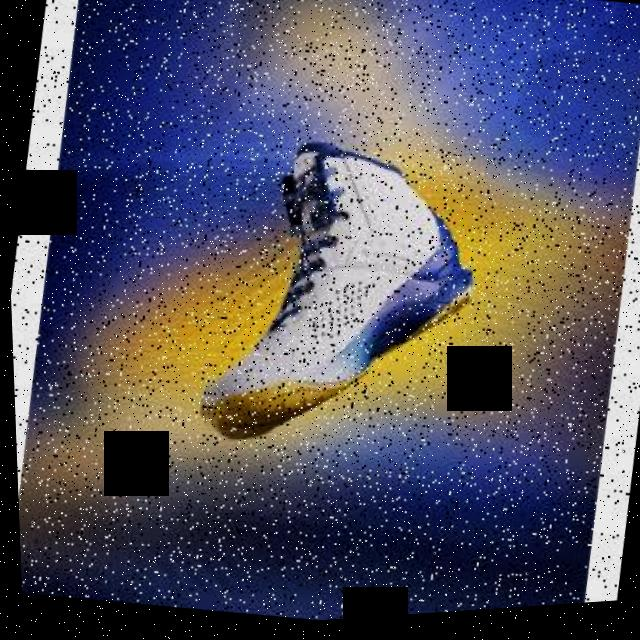shoe: (186, 124, 494, 478)
